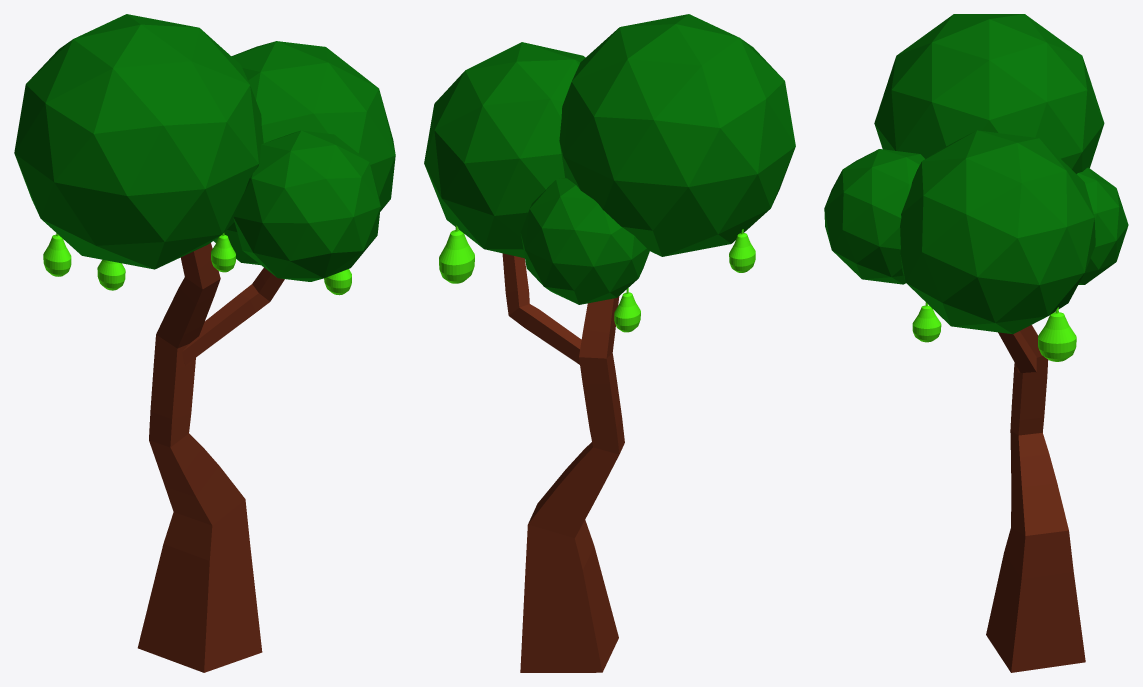
Rendered from PearTree.fbx.
3 renders of one model, left to right at view 1: azimuth 30°, elevation 25°; view 2: azimuth 150°, elevation 25°; view 3: azimuth 270°, elevation 25°, orthographic. The views are drawn at different scales.
Visible parts, largest first — view 1: Icosphere, Cube, Icosphere.002, Icosphere.001, Cube.001, Pear.003, Pear, Pear.002; view 2: Icosphere, Icosphere.001, Cube, Icosphere.003, Cube.001, Pear.001, Pear, Pear.003; view 3: Icosphere.001, Icosphere, Cube, Icosphere.002, Icosphere.003, Pear.001, Cube.001, Pear.004.
Part boxes in pixels (x1,y1,x2,y2): Icosphere: (14,14,263,269); Cube: (137,243,262,672); Icosphere.002: (233,130,380,281); Icosphere.001: (213,41,395,265); Cube.001: (182,267,284,364); Pear.003: (43,233,71,276); Pear: (97,259,125,290); Pear.002: (211,233,235,272); Icosphere: (559,14,795,256); Icosphere.001: (424,42,585,258); Cube: (520,296,624,672); Icosphere.003: (520,178,649,304); Cube.001: (502,253,581,364); Pear.001: (439,225,474,283); Pear: (614,288,640,332); Pear.003: (729,229,755,272); Icosphere.001: (900,130,1095,334); Icosphere: (874,14,1104,173); Cube: (986,325,1085,672); Icosphere.002: (824,149,924,284); Icosphere.003: (1077,167,1128,284); Pear.001: (1038,307,1076,361); Cube.001: (998,331,1036,372); Pear.004: (912,302,941,342).
Bounding box in the file's own units: 232 × 422 × 195.
